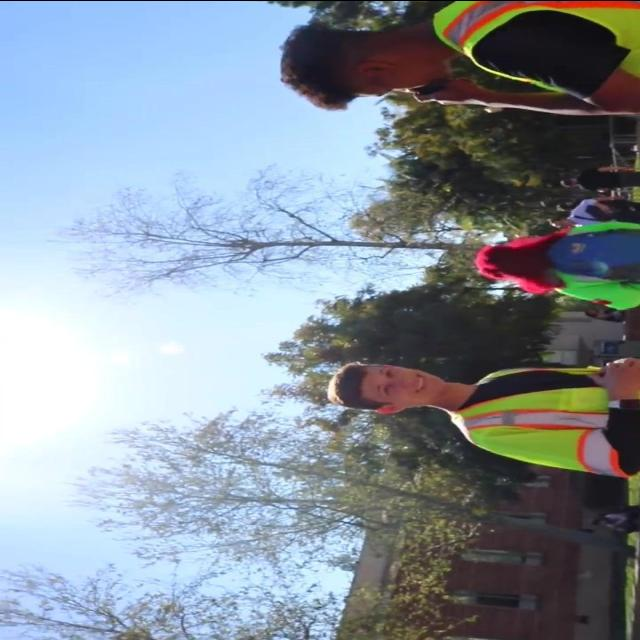jacket: (438, 358, 640, 478), (426, 0, 640, 109)
